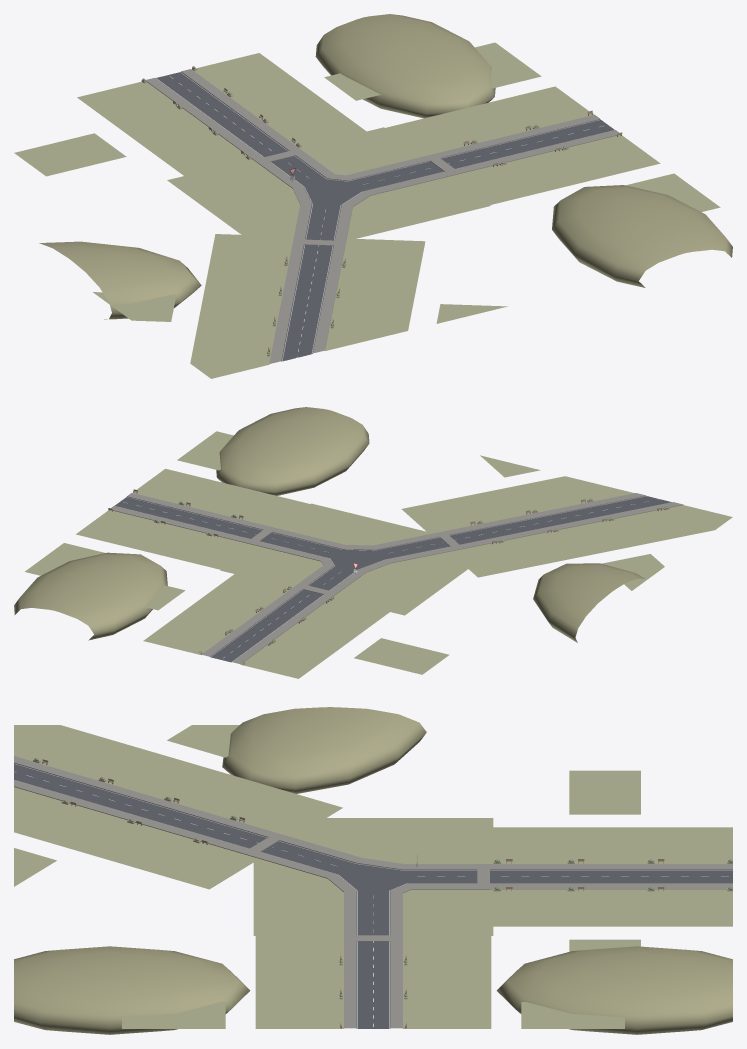
3 renders of one model, top to bottom at view 1: azimuth 30°, elevation 25°; view 2: azimuth 150°, elevation 25°; view 3: azimuth 270°, elevation 25°, orthographic. The views are drawn at different scales.
Parts seen in each view (by area): view 1: static; view 2: static; view 3: static.
Boxes of the visible parts, left/top/right/bottom form: static: left=14, top=14, right=732, bottom=378; static: left=14, top=407, right=732, bottom=678; static: left=14, top=707, right=732, bottom=1034.
Size of what is drawn, in the model's own units: 180 by 14.08 by 180.
Materials: 5 (4 with a texture image).
